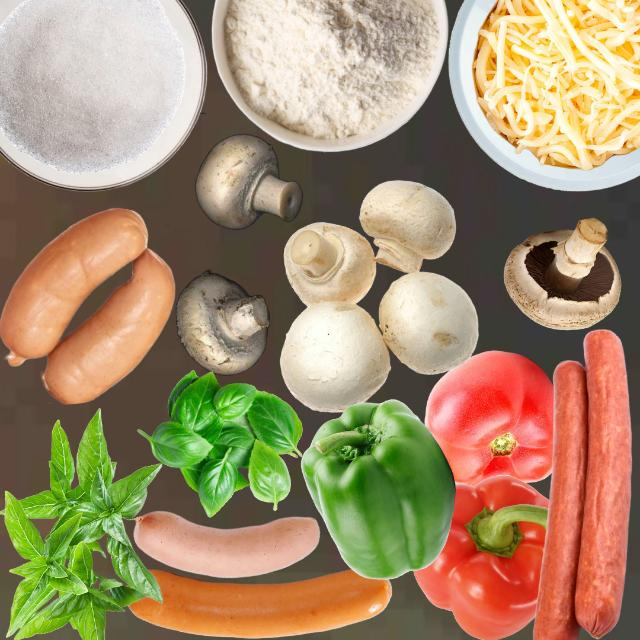Flour: (223, 0, 440, 140)
Sugar: (0, 0, 186, 174)
